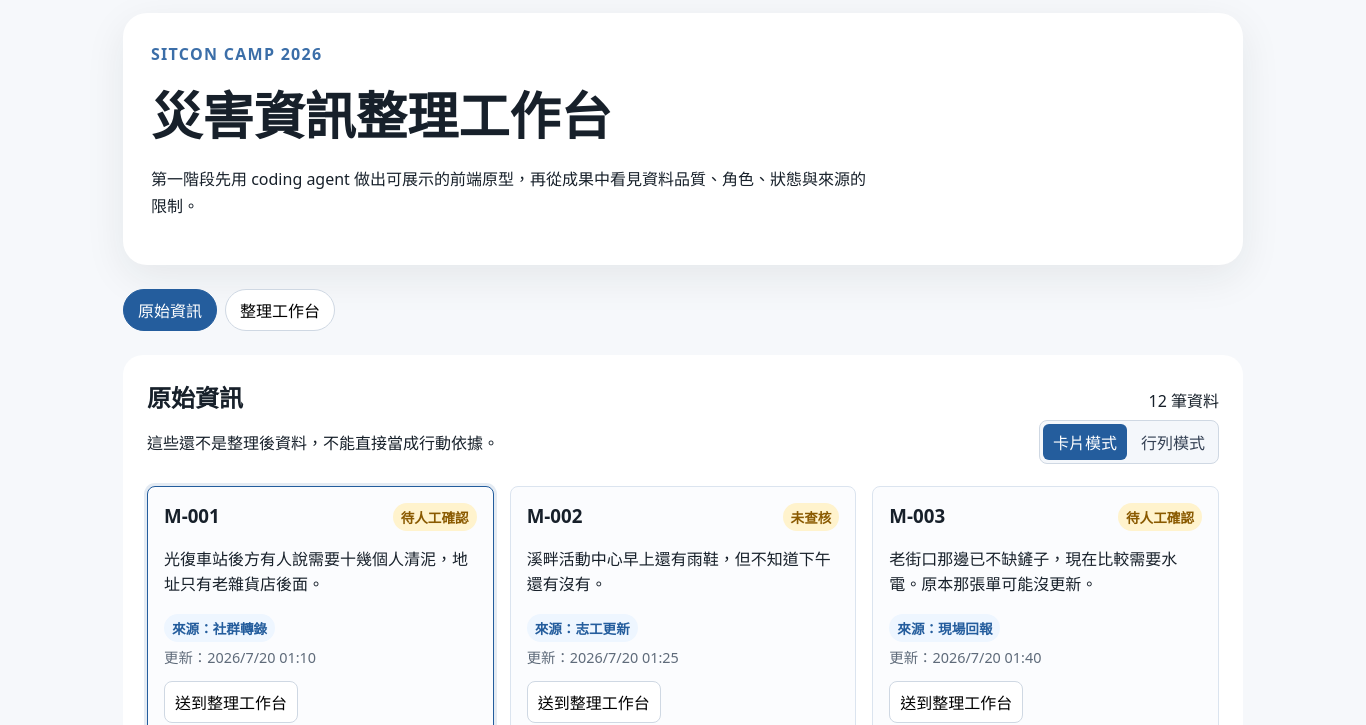
Test: App › shows high quality candidate reports without marking them confirmed
Click the button "整理工作台" at (280, 310), box [225,289,335,331]
(page scrolled)
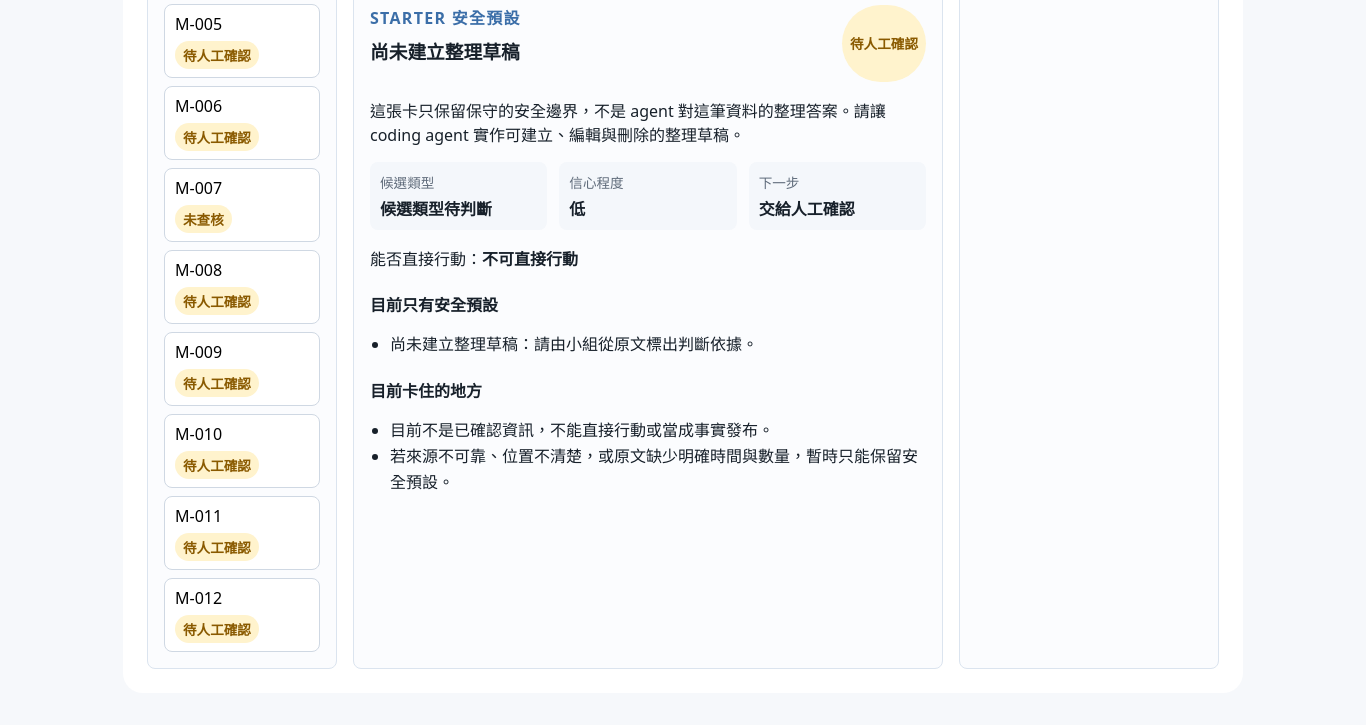
Click the button "M-009 待人工確認" at (242, 369), box [164,332,320,406]
(page scrolled)
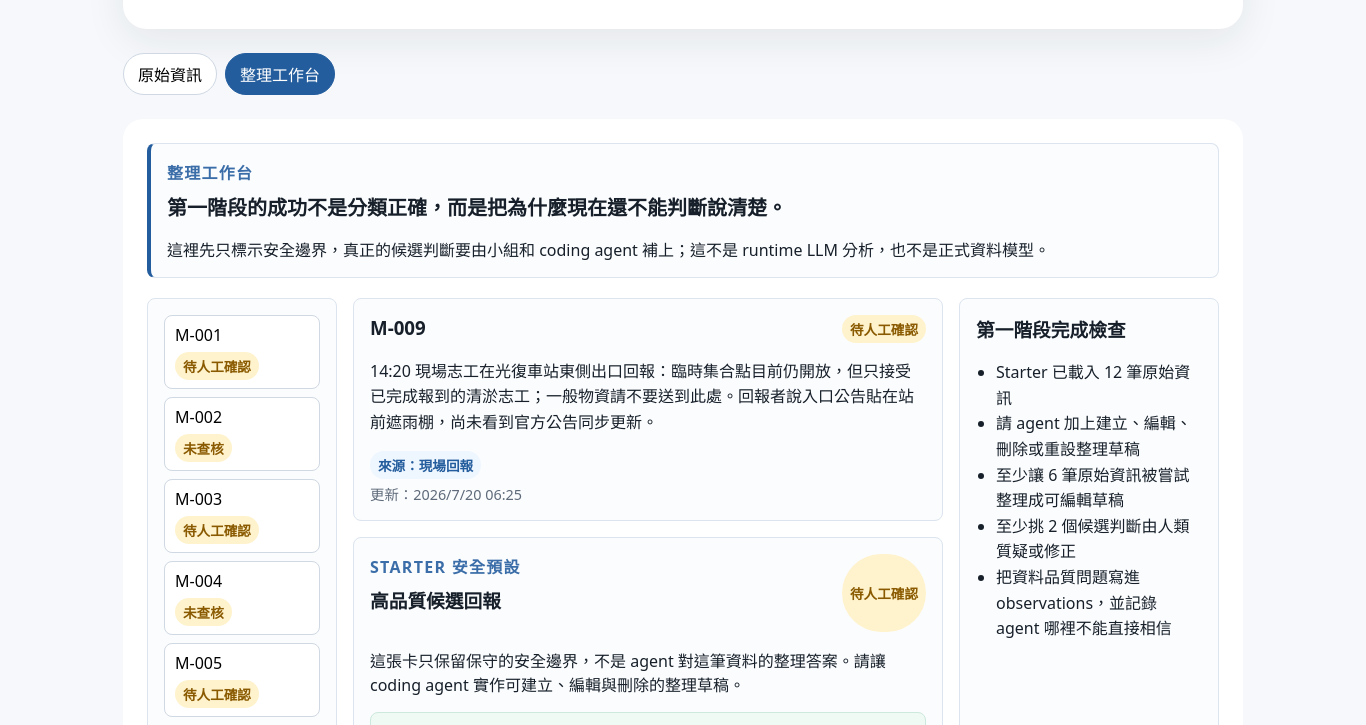
Expected: the 2nd text "待人工確認" is shown, [175,352,259,380]
Expected: the heading "高品質候選回報" is shown, [370,586,521,613]
